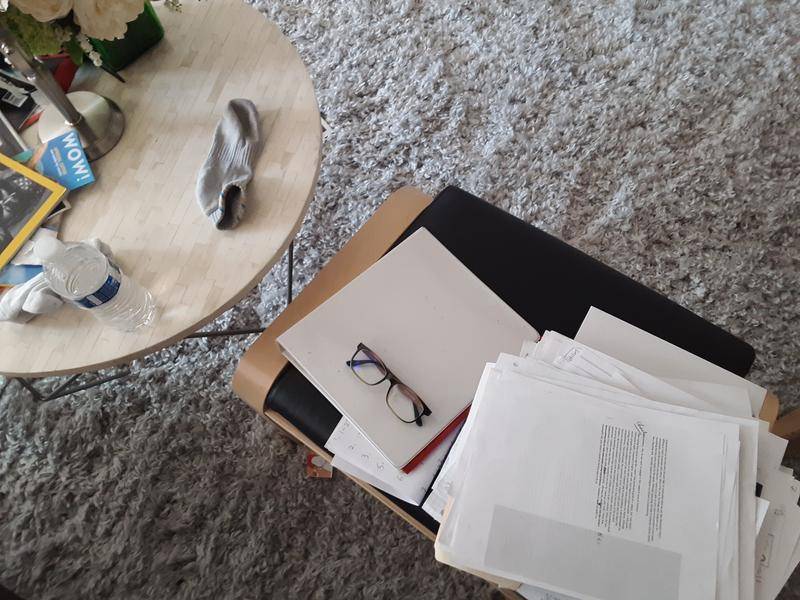glasses: (343, 342, 433, 432)
